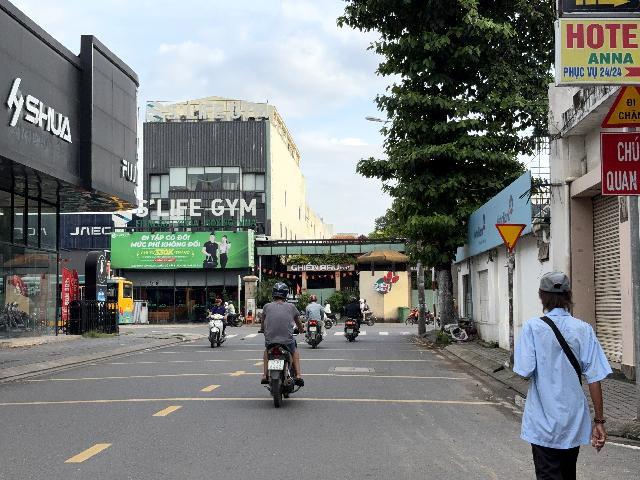giao-nhau-voi-duong-uu-tien: (495, 223, 527, 252)
